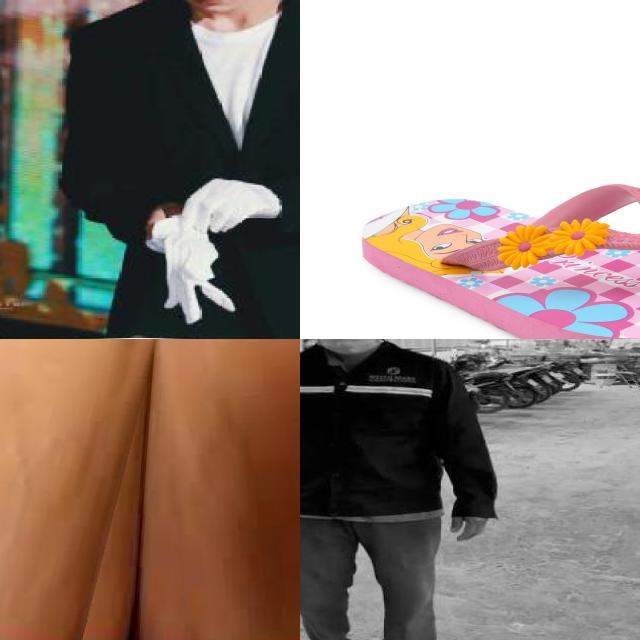Barefoots: (0, 339, 197, 640), (113, 339, 300, 640)
Sandals: (359, 182, 640, 339)
face_mask: (311, 339, 383, 357)
hand_glove: (158, 234, 242, 323), (180, 178, 267, 234)
hand_noglove: (446, 498, 496, 552)
person: (62, 0, 300, 339), (300, 339, 498, 640)
